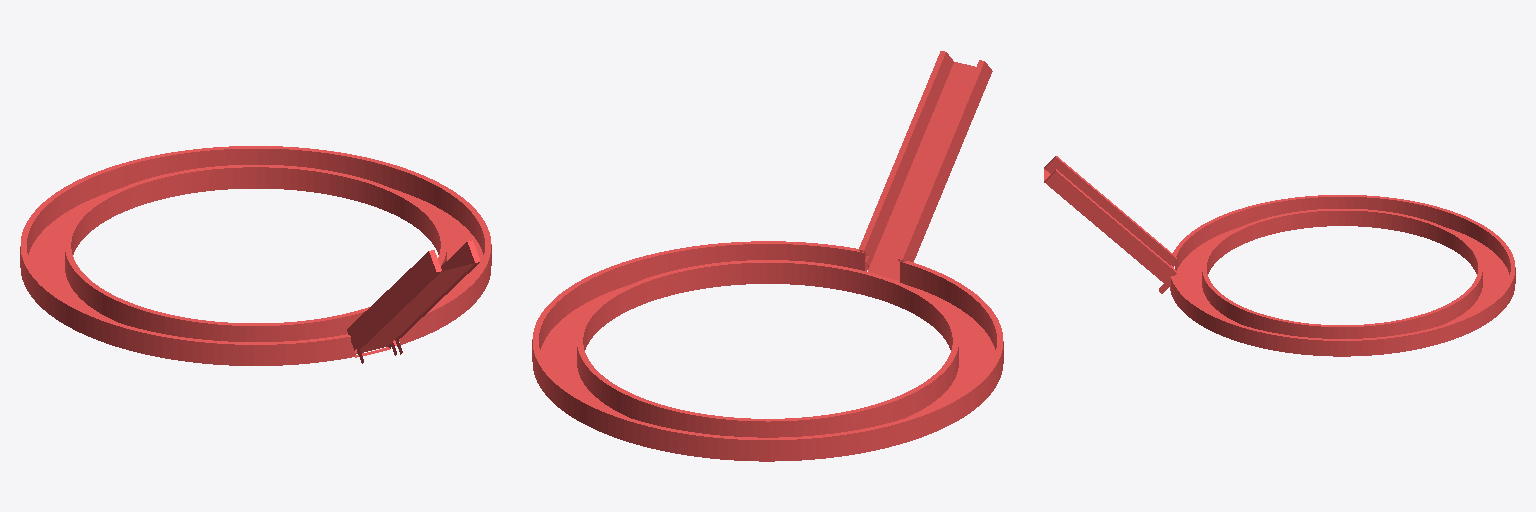
The robot description file, URDF, robot "track.urdf":
<?xml version="1.0" ?>
<robot name="track.urdf">
  <link concave="yes" name="baseLink">
    <contact>
      <lateral_friction value="0.5"/>
      <rolling_friction value="0.0"/>
      <contact_cfm value="0.0"/>
      <contact_erp value="1.0"/>
    </contact>
    <inertial>
      <origin rpy="0 0 0" xyz="0.07 0.05 0.03"/>
       <mass value="0."/>
       <inertia ixx="1" ixy="0" ixz="0" iyy="1" iyz="0" izz="1"/>
    </inertial>
    <visual>
      <origin rpy="0 0 0" xyz="0 0 0"/>
      <geometry>
        <mesh filename="track.stl" scale="1. 1. 1."/>
      </geometry>
       <material name="red">
        <color rgba="1 0.4 0.4 1"/>
      </material>
    </visual>
    <collision>
      <origin rpy="0 0 0" xyz="0 0 0"/>
      <geometry>
      <mesh filename="track.obj" scale="1. 1. 1."/>
      </geometry>
    </collision>
  </link>
</robot>

--- What the picture shows (computed from the rendered views, not written in the file) ---
The picture shows the robot from 3 angles, left to right: view 1: azimuth 30°, elevation 25°; view 2: azimuth 150°, elevation 25°; view 3: azimuth 270°, elevation 25°; orthographic projection.
Model track.urdf with 1 links and 0 joints (none), rooted at baseLink, posed all joints at 0.
Links seen in each view (by area): view 1: baseLink; view 2: baseLink; view 3: baseLink.
Boxes of the visible links, bbox=[...] form: baseLink: bbox=[20, 146, 491, 365]; baseLink: bbox=[532, 51, 1003, 461]; baseLink: bbox=[1044, 156, 1515, 356].
Bounding box of the posed robot: 18.55 × 25.25 × 7.29 m (x, y, z).
1 mesh visuals loaded from 1 distinct referenced files (1 binary STL).
